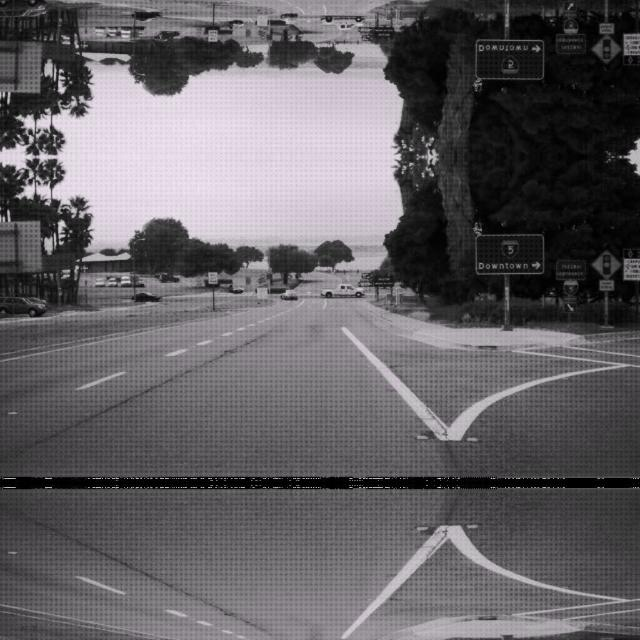signalAhead: (591, 248, 621, 278), (591, 34, 621, 64)
